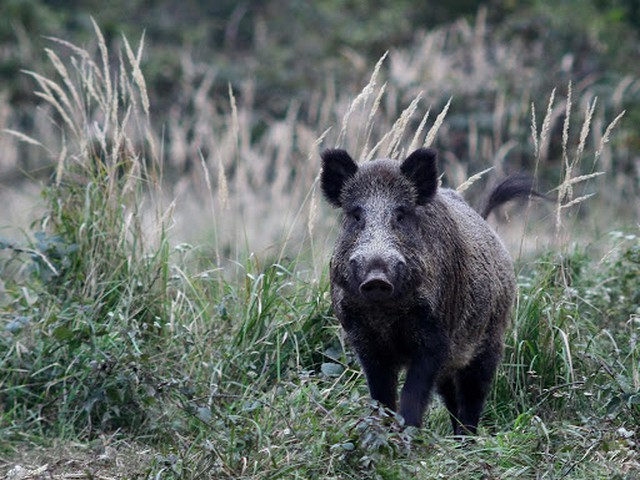Pig: (312, 144, 525, 429)
